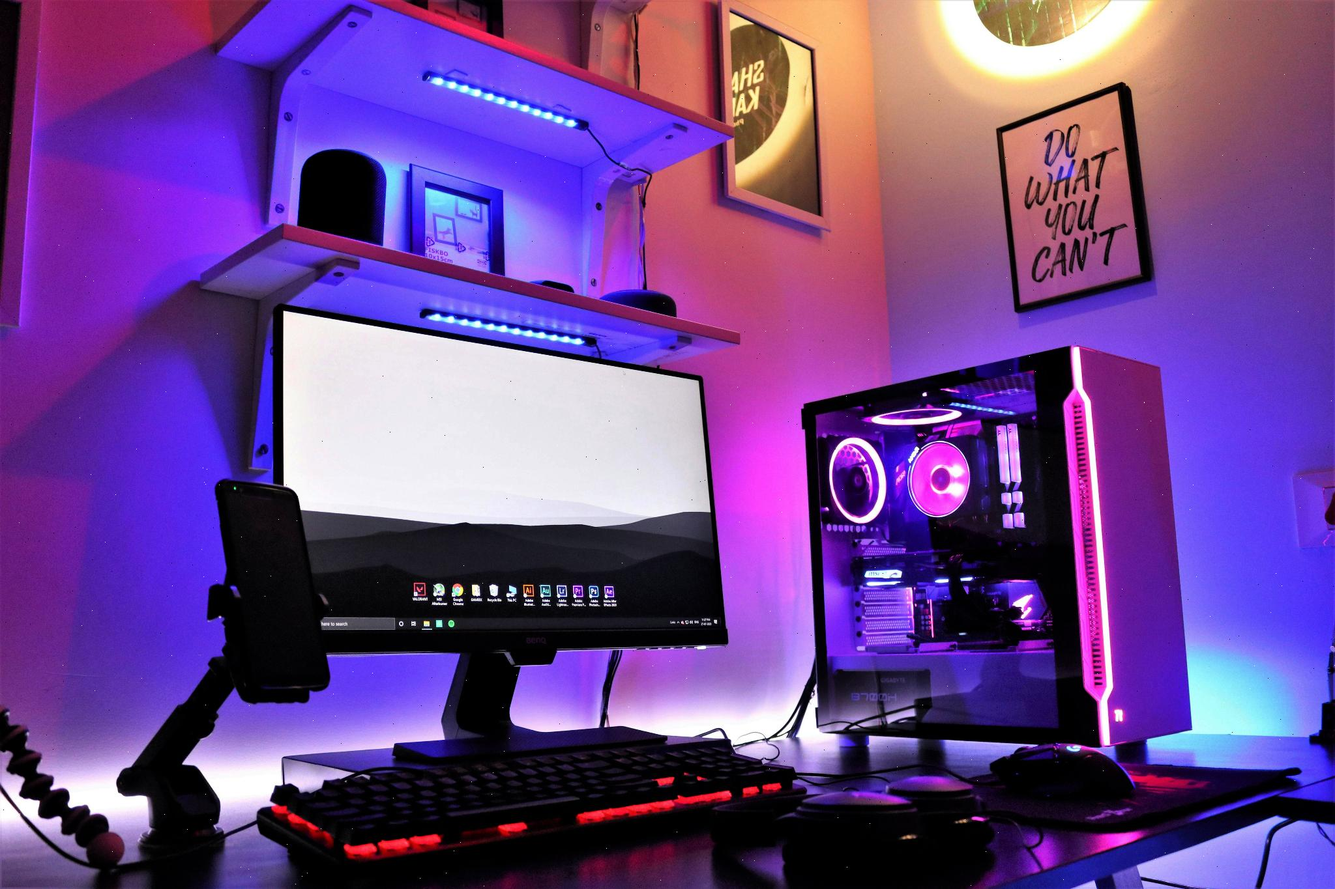keyboard: (244, 731, 815, 887)
monitor: (264, 294, 737, 666)
mouse: (974, 728, 1146, 808)
pc: (791, 338, 1203, 765)
